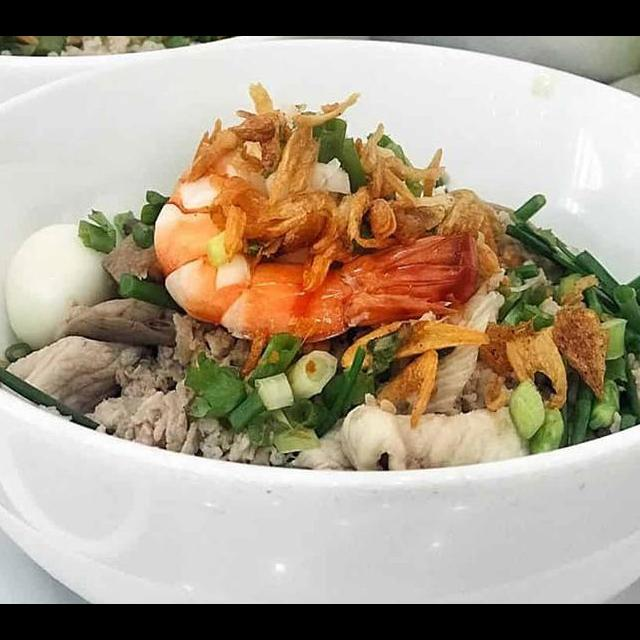thit bam: (84, 307, 313, 478)
thit heo: (286, 262, 510, 481), (332, 393, 539, 484), (0, 330, 158, 426), (49, 291, 203, 361)
tom: (147, 120, 487, 345)
trung: (0, 217, 125, 358)
